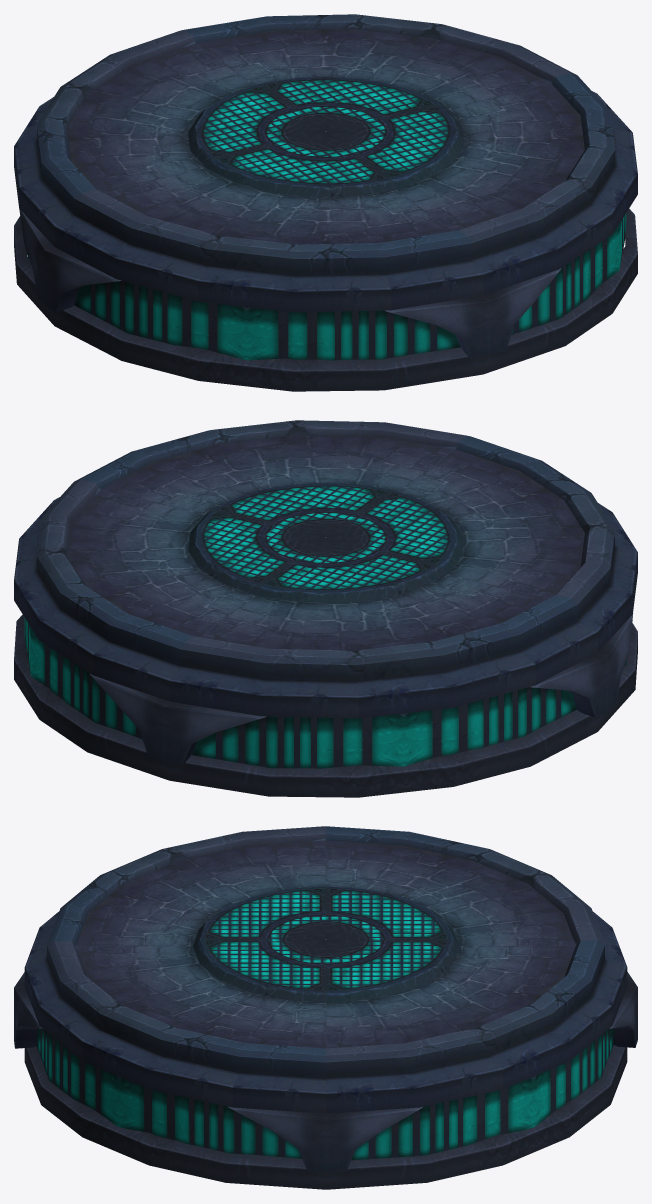
The model's file is 10109_boss01.FBX.
3 views of the same model, one above another, from view 1: azimuth 30°, elevation 25°; view 2: azimuth 150°, elevation 25°; view 3: azimuth 270°, elevation 25° (orthographic). The views are drawn at different scales.
Parts seen in each view (by area): view 1: 10109_boss01; view 2: 10109_boss01; view 3: 10109_boss01.
Part boxes in pixels (x1,y1,x2,y2): 10109_boss01: (14,14,637,391); 10109_boss01: (14,420,637,797); 10109_boss01: (14,826,637,1189).
Size of the model in its own units: 3294 by 715 by 3294.
